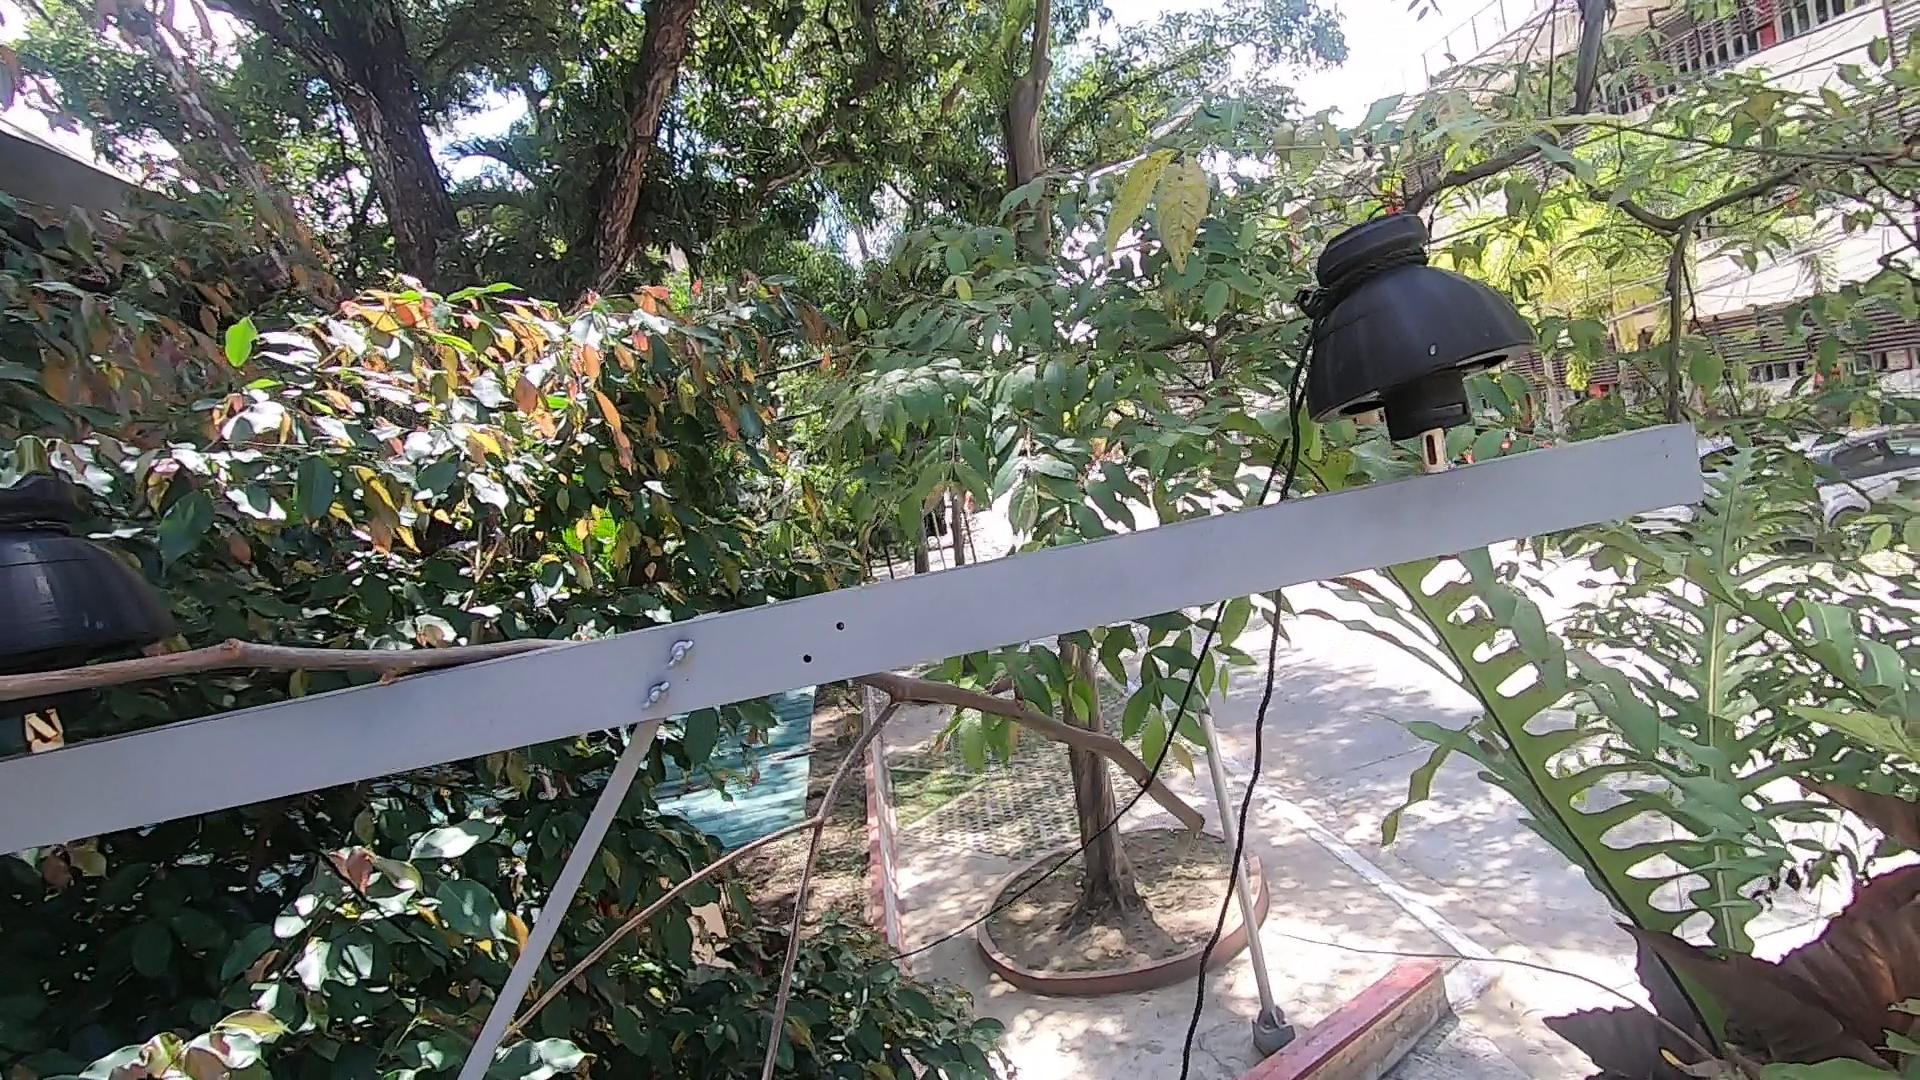tree branch: (471, 651, 1209, 1065), (1, 622, 551, 748)
